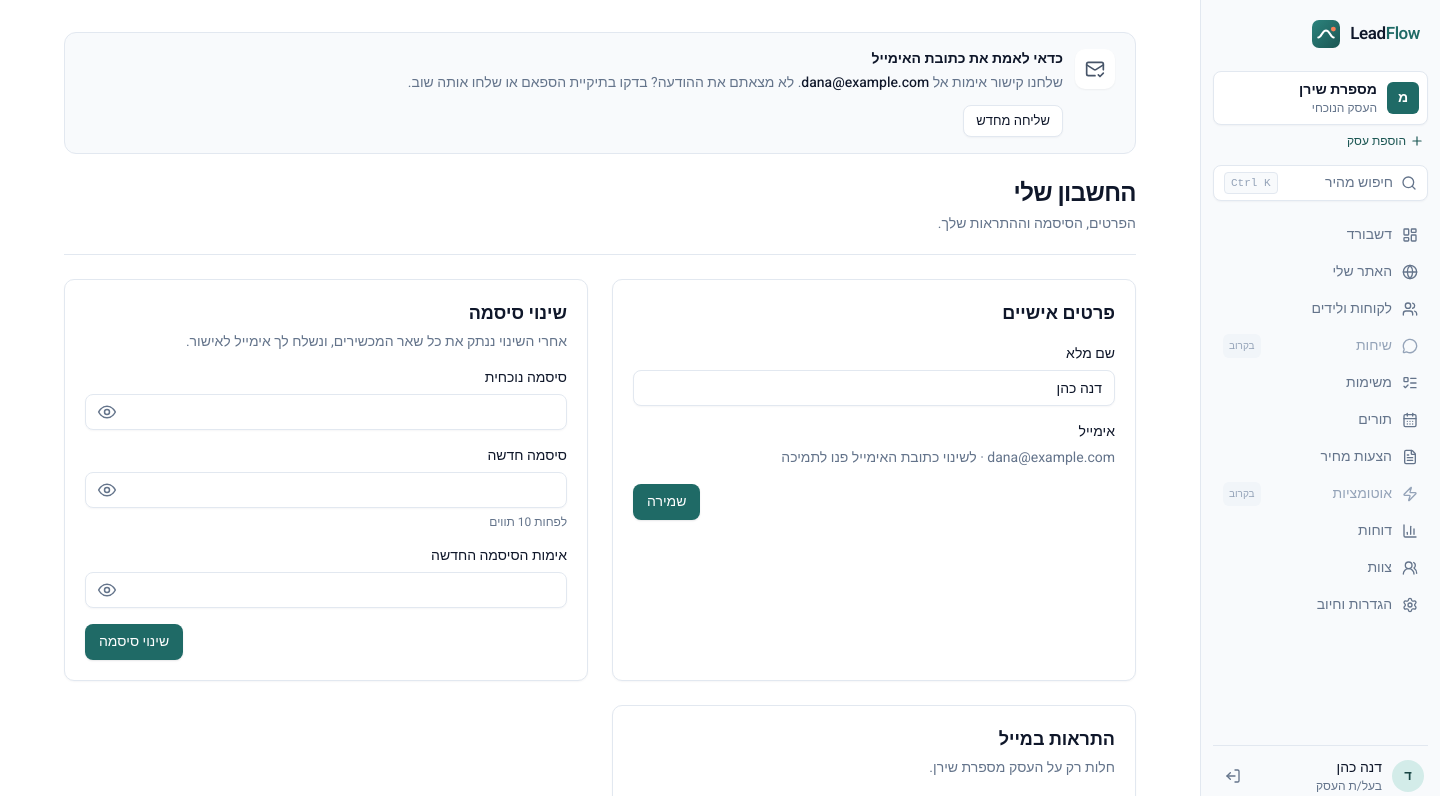
Scenario: account page › updates the name and refreshes the greeting
This screenshot has width=1440, height=796.
Replace the text in the field labelled "שם מלא" with "דנה לוי" at coordinates (874, 388), box [633, 370, 1115, 406]
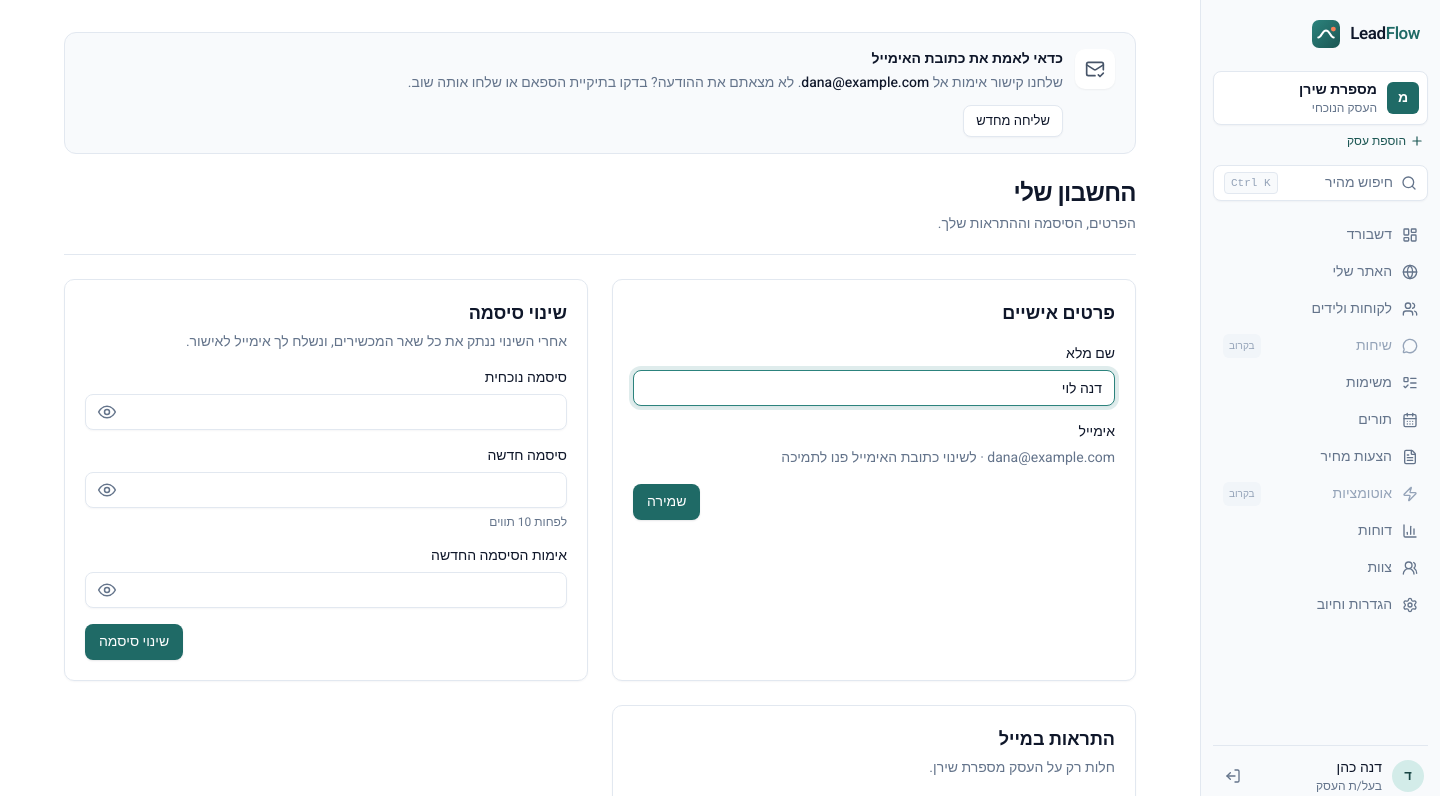
Click the button "שמירה" at coordinates (667, 502), box [633, 484, 700, 520]
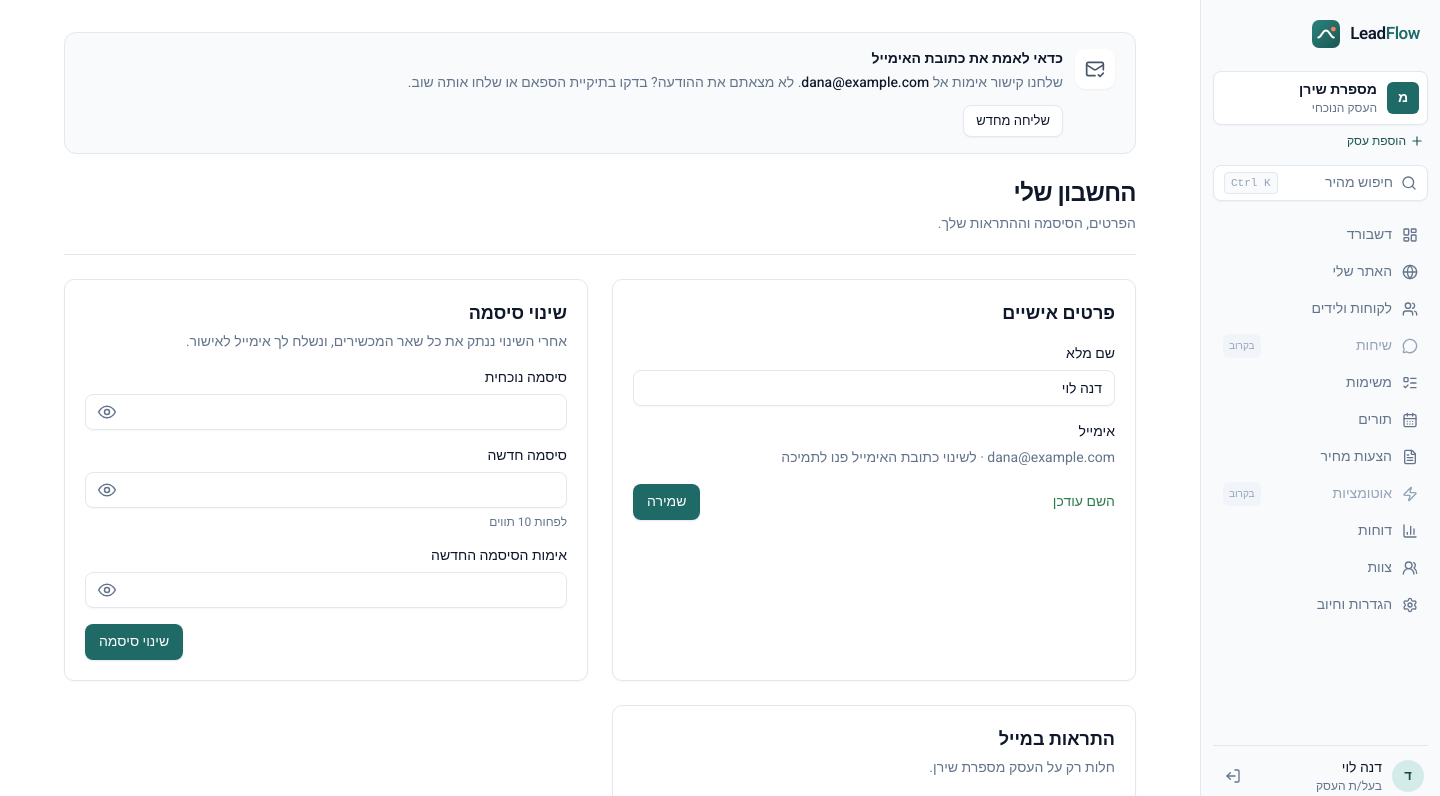
Expected: the text "השם עודכן" is shown, [1053, 492, 1115, 512]
